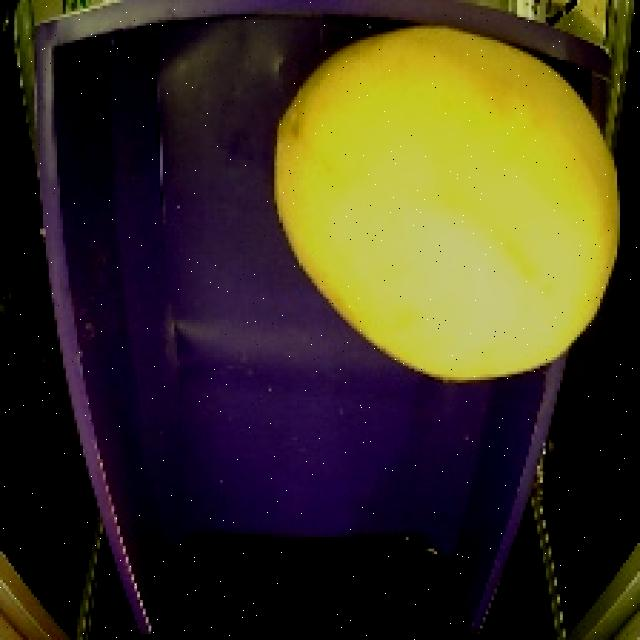full_potato: (262, 21, 632, 398)
